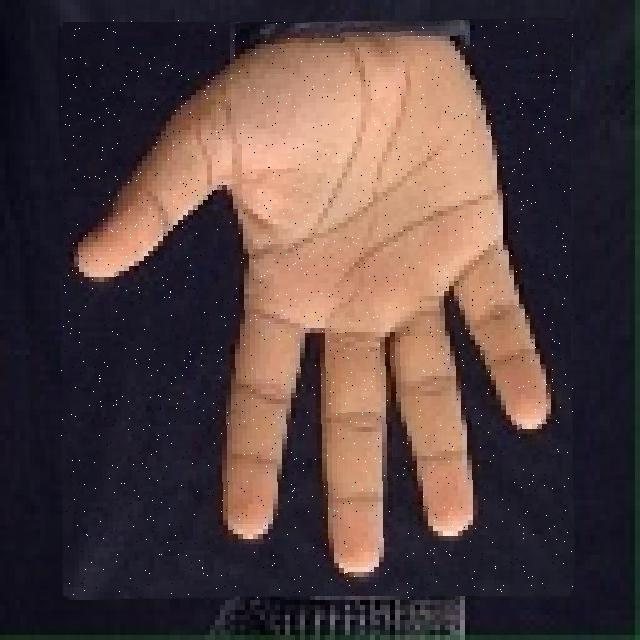Yes: (61, 21, 573, 598)
